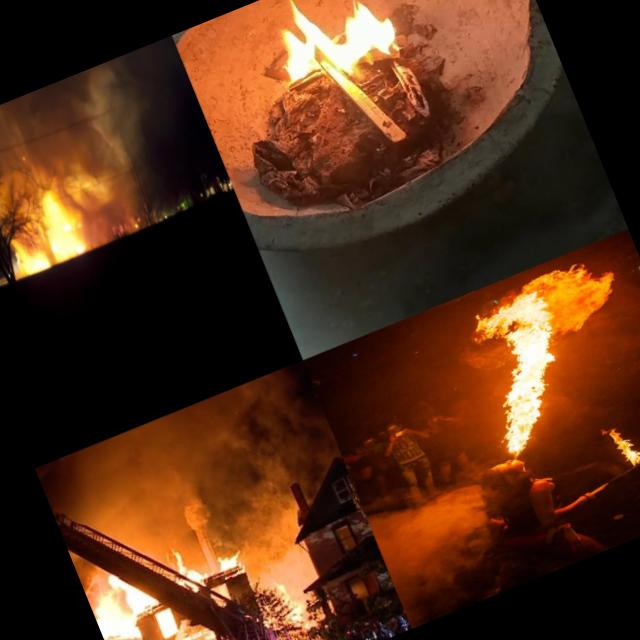fire: (440, 247, 640, 461), (244, 0, 412, 119), (0, 172, 98, 277), (156, 522, 252, 604), (81, 561, 163, 640), (68, 158, 122, 219), (591, 412, 640, 479), (266, 576, 316, 638), (133, 616, 211, 640)
smoke: (90, 371, 322, 563), (70, 53, 179, 204), (0, 76, 103, 201), (50, 502, 93, 589)
